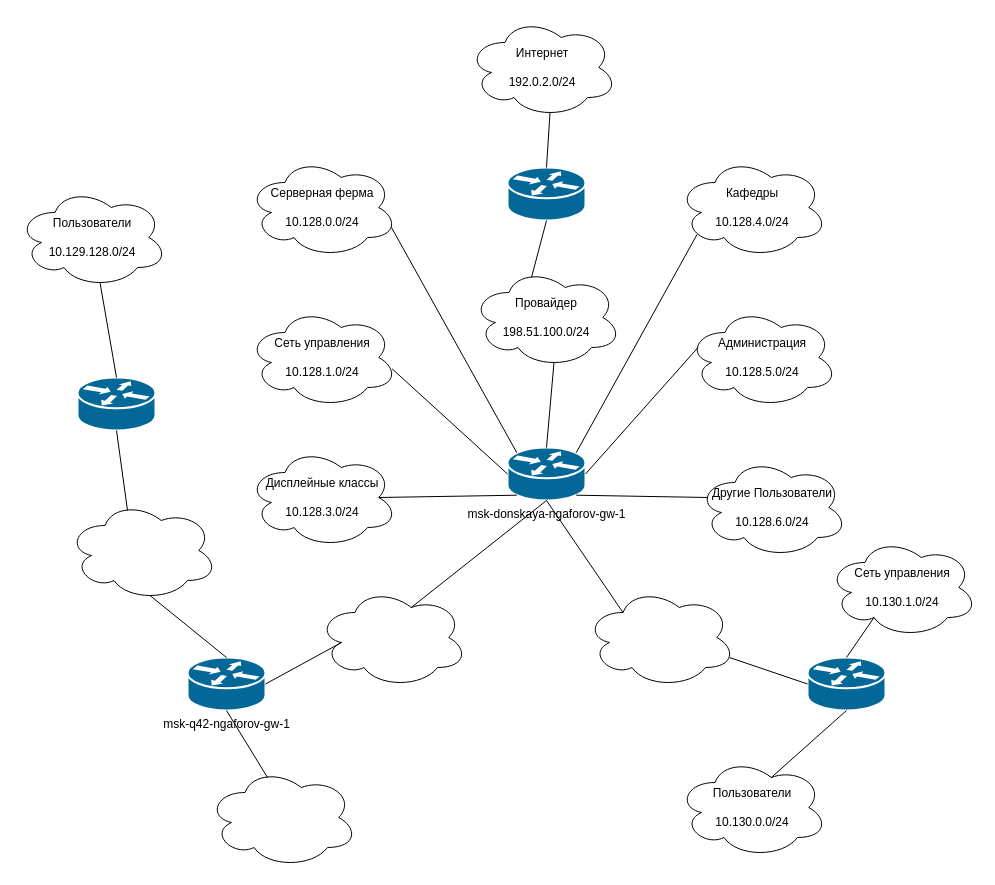
The diagram is 995 pixels wide and 885 high, and some of its shapes have lost their labels. The shapes that lost their labels are listed below. From the top down, each one's centre as x and y in pixels, then its label:
At point 546,193: "provider-ngaforov-gw-1".
At point 116,403: "msk-hostel-ngaforov-gw-1".
At point 142,550: "Сеть управления 10.129.1.0/24".
At point 392,637: "Линк на 42й квартал 10.128.255.0/30".
At point 660,637: "Линк в Сочи 10.128.255.4/30".
At point 846,683: "sch-sochi-ngaforov-gw-1".
At point 282,817: "Пользователи 10.129.0.0/24".
